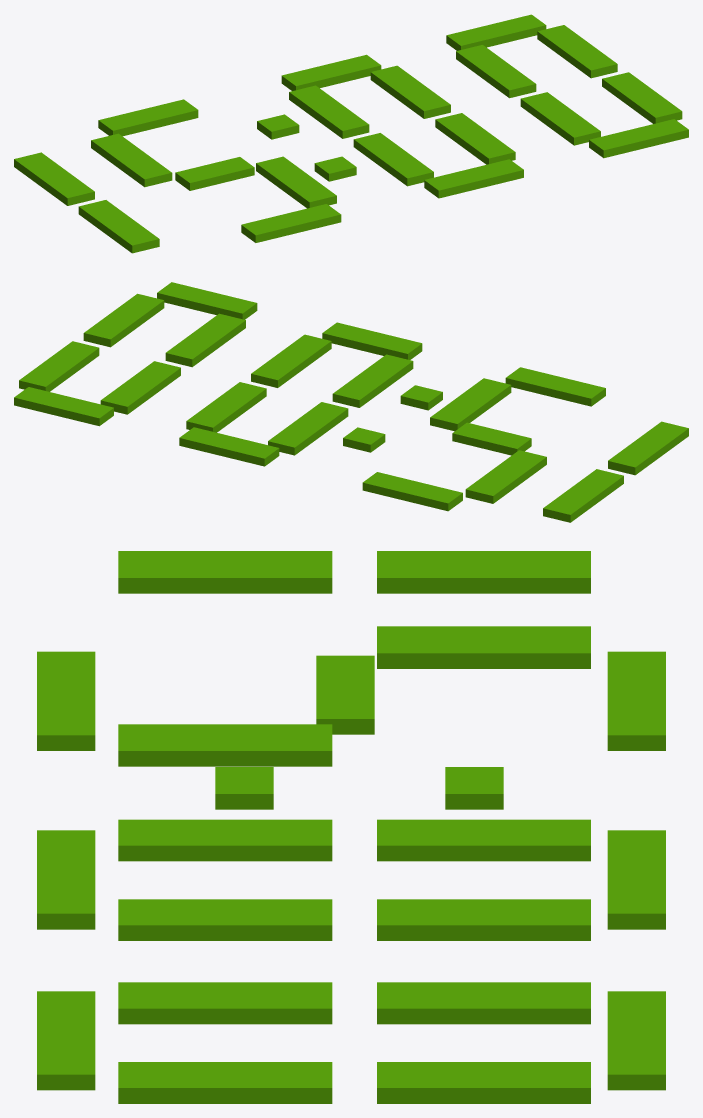
3 views of the same model, one above another, from view 1: azimuth 30°, elevation 25°; view 2: azimuth 150°, elevation 25°; view 3: azimuth 270°, elevation 25° (orthographic). The views are drawn at different scales.
Bounding box in the file's own units: 0.3354 × 0.00459 × 0.1661.
